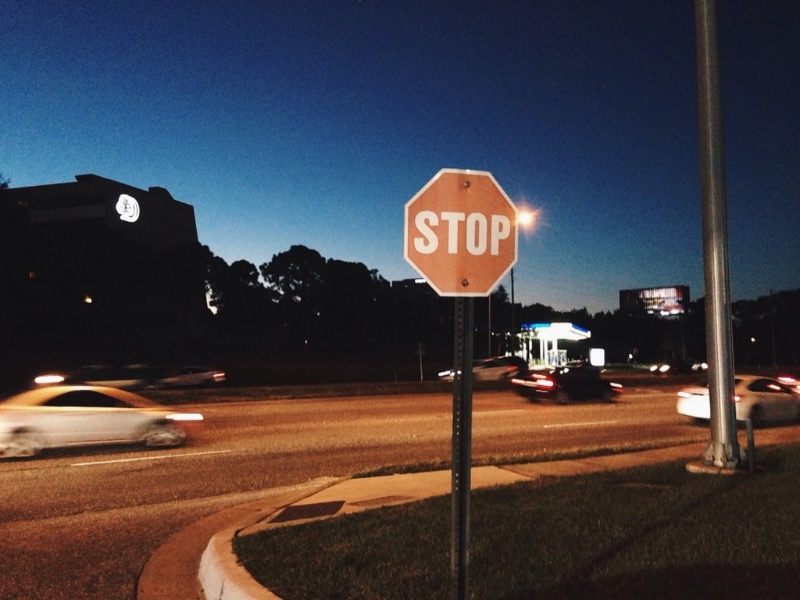stop: (399, 164, 524, 300)
